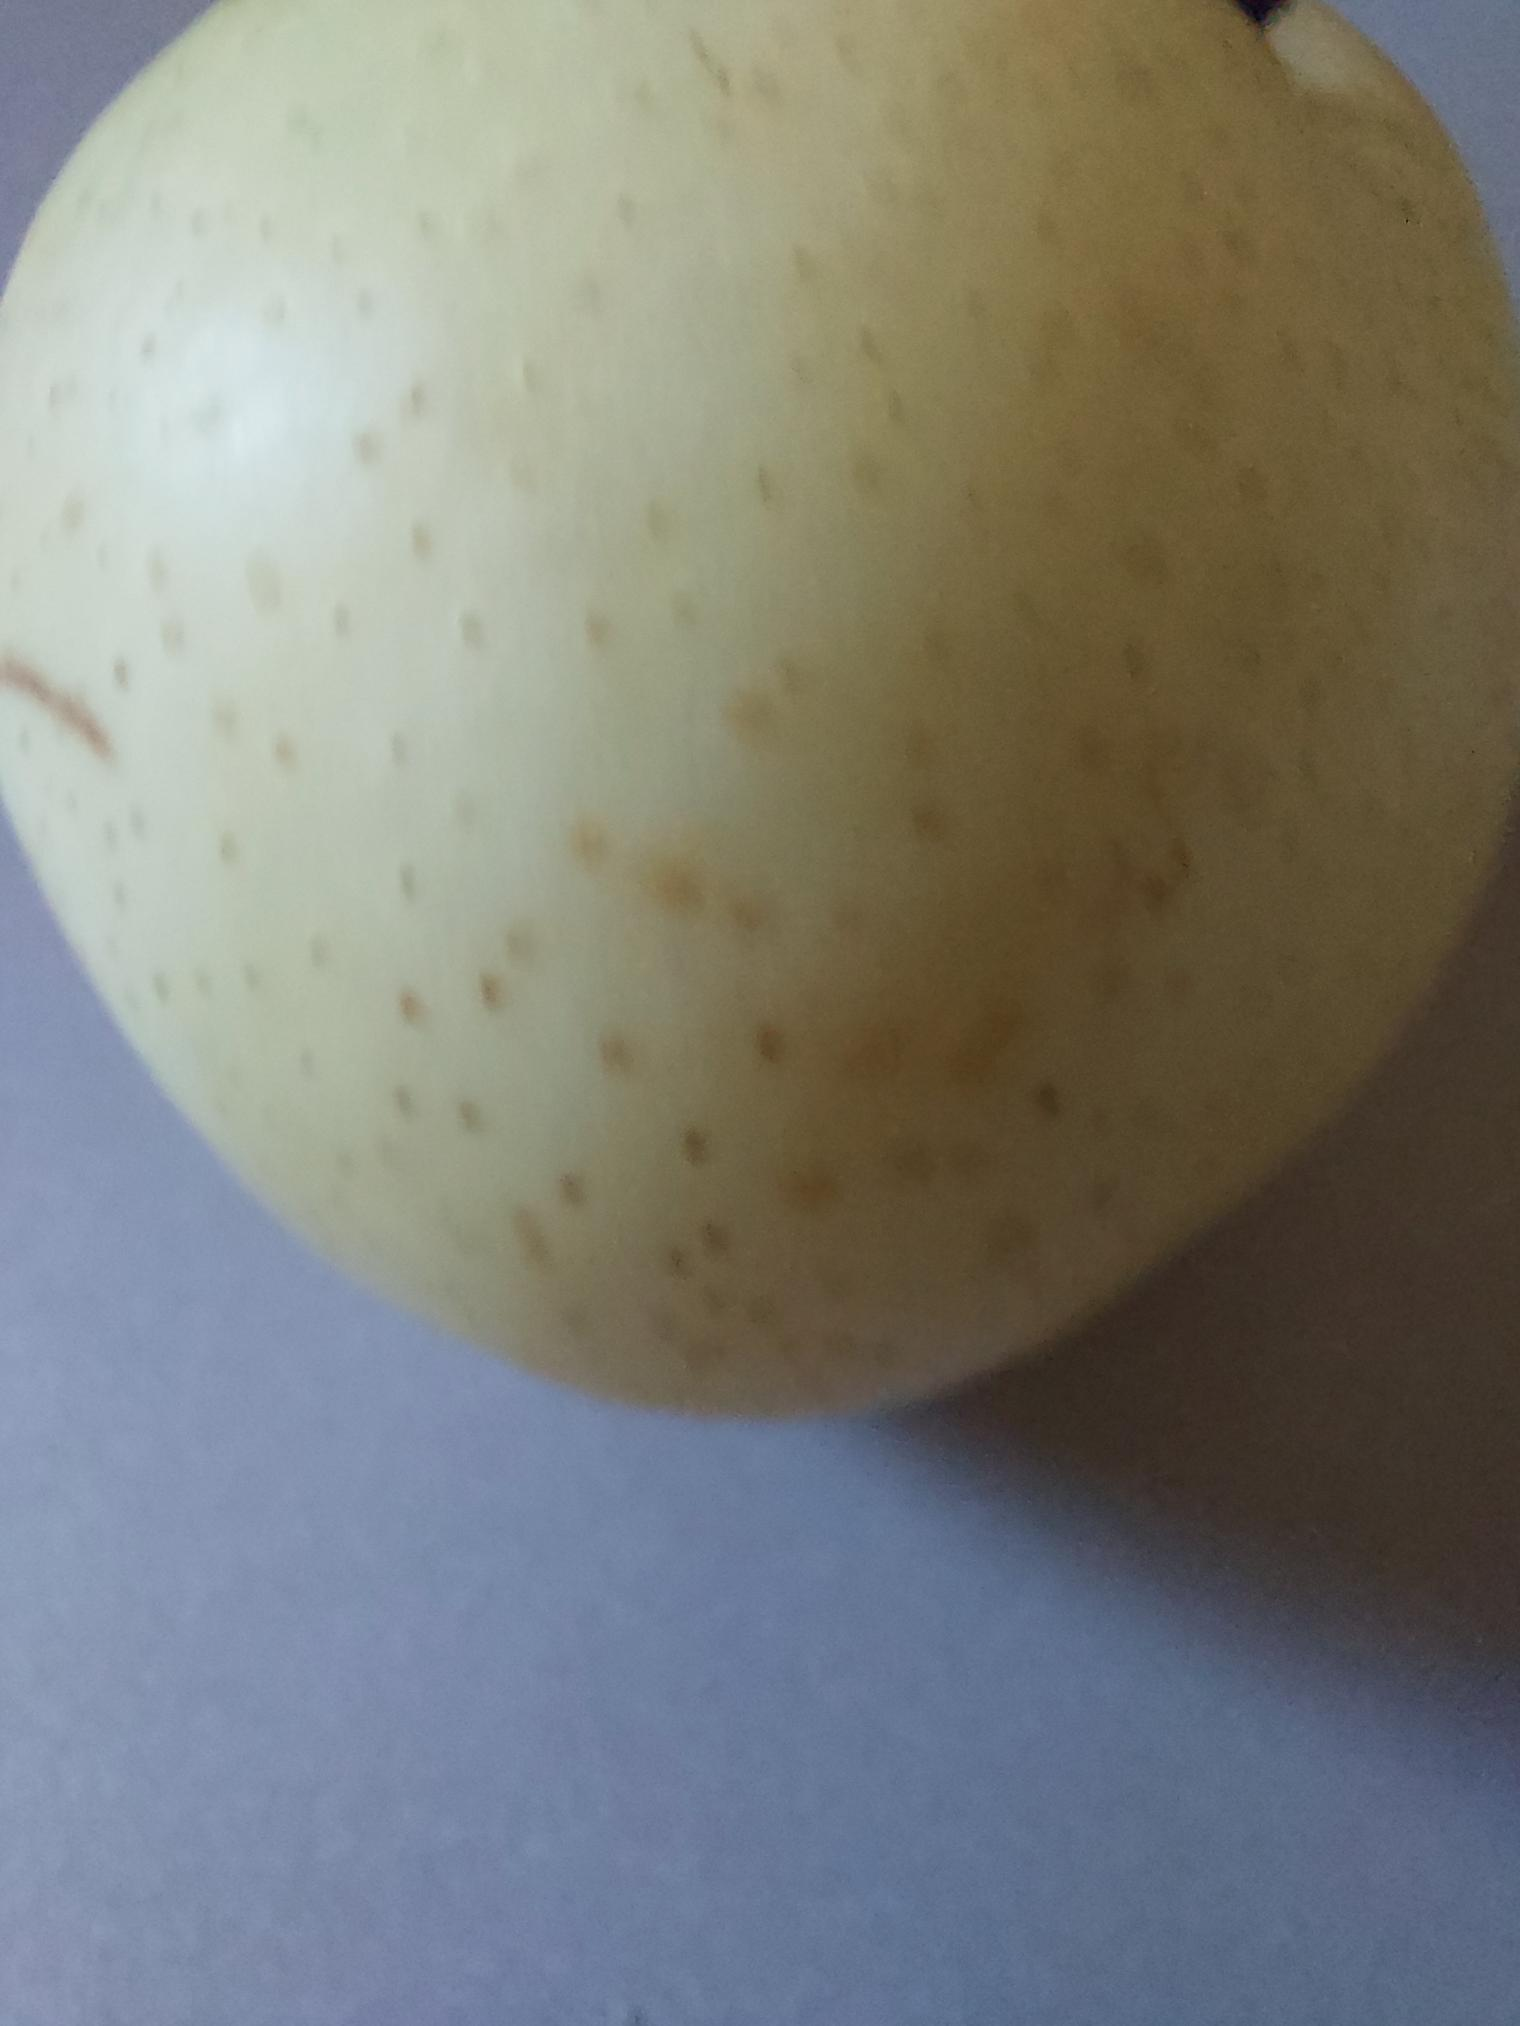Good Pear: (0, 0, 1520, 1521)
